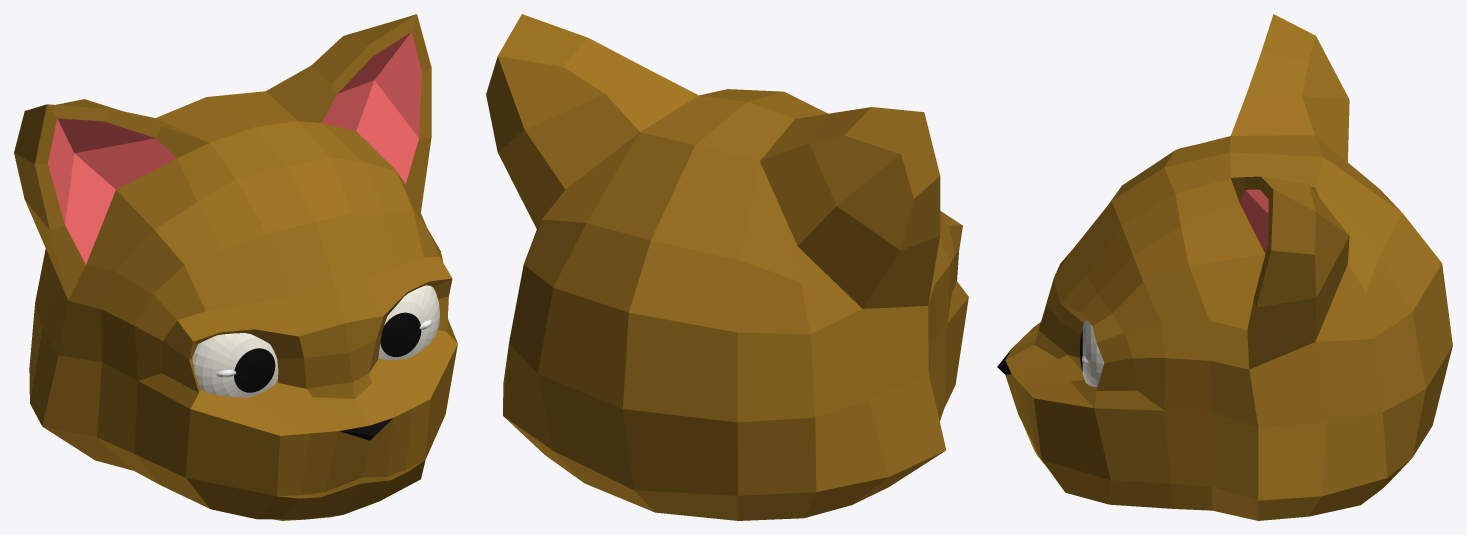
File: cat.fbx
The picture shows the model from 3 angles, left to right: view 1: azimuth 30°, elevation 25°; view 2: azimuth 150°, elevation 25°; view 3: azimuth 270°, elevation 25°; orthographic projection. The views are drawn at different scales.
Visible parts, largest first — view 1: Box001, Sphere002; view 2: Box001; view 3: Box001, Sphere002.
Boxes of the visible parts, left/top/right/bottom form: Box001: left=14, top=14, right=457, bottom=520; Sphere002: left=192, top=285, right=439, bottom=397; Box001: left=486, top=14, right=968, bottom=520; Box001: left=997, top=14, right=1452, bottom=520; Sphere002: left=1079, top=320, right=1104, bottom=386.
Size of the model in its own units: 30.33 by 28.35 by 31.02.
